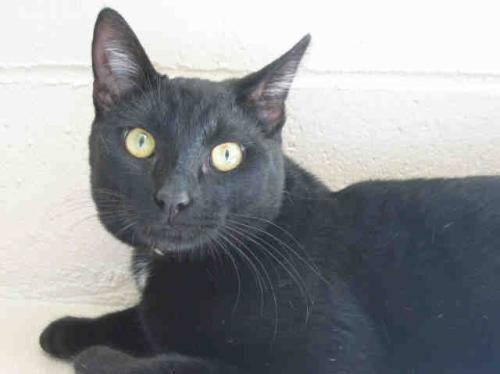cat: (40, 9, 499, 373)
